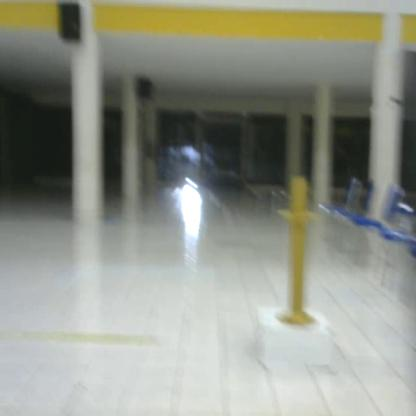pole: (274, 173, 323, 332)
